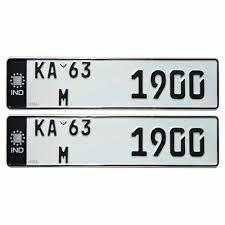0: (188, 69, 206, 101), (169, 69, 187, 101), (188, 127, 206, 158), (169, 127, 186, 158)
1: (129, 68, 149, 102), (129, 125, 149, 158)
3: (80, 61, 92, 80), (80, 117, 91, 136)
6: (69, 118, 79, 136), (70, 61, 79, 79)
9: (150, 126, 167, 157), (150, 69, 167, 100)
A: (46, 61, 57, 80), (46, 119, 57, 137)
K: (33, 61, 46, 81), (33, 118, 46, 137)
M: (58, 87, 70, 107), (58, 144, 70, 163)
